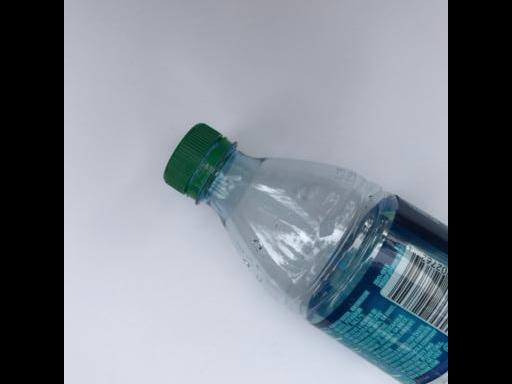PET: (161, 121, 447, 384)
plastic: (161, 121, 447, 384)
water: (161, 121, 447, 384)
